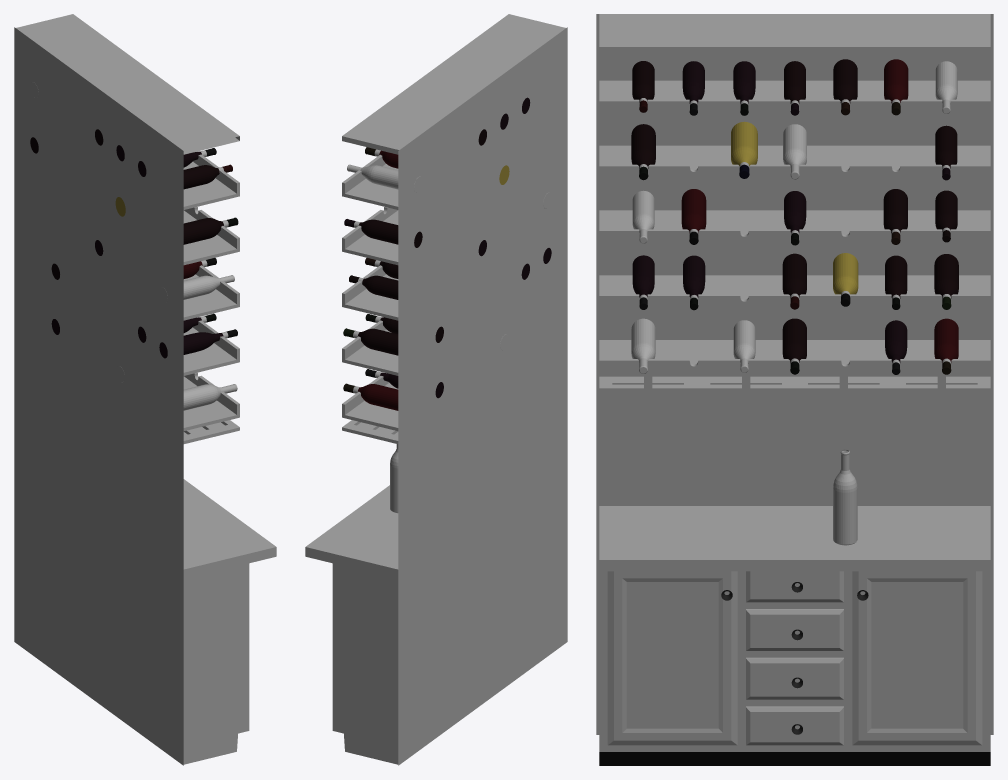
The model's file is bar shelf.FBX.
The picture shows the model from 3 angles, left to right: view 1: azimuth 30°, elevation 25°; view 2: azimuth 150°, elevation 25°; view 3: azimuth 270°, elevation 25°; orthographic projection. The views are drawn at different scales.
Visible parts, largest first — view 1: backer board, cabinet, top, wine shelf, countertop, wine bottle..133, wine bottle..166, wine bottle..153, glass shelf, wine bottle..072, wine bottle..070; view 2: backer board, cabinet, top, wine shelf, countertop, wine bottle..027, wine bottle..071, wine bottle..056, wine bottle..154, glass shelf, wine bottle..083, wine bottle; view 3: backer board, wine shelf, countertop, door left, door right, cabinet, top, drawer, glass shelf, wine bottle, wine bottle..109, wine bottle..110 (+25 smaller).
Boxes of the visible parts, box(x1,y1,x2,y2) form: backer board: box(14, 27, 183, 765); cabinet: box(145, 555, 249, 764); top: box(16, 14, 239, 154); wine shelf: box(133, 151, 239, 430); countertop: box(140, 479, 276, 579); wine bottle..133: box(183, 217, 238, 244); wine bottle..166: box(183, 384, 237, 410); wine bottle..153: box(159, 275, 234, 303); glass shelf: box(141, 413, 239, 444); wine bottle..072: box(159, 329, 237, 358); wine bottle..070: box(183, 164, 232, 189); backer board: box(398, 27, 567, 765); cabinet: box(332, 458, 566, 764); top: box(342, 14, 566, 154); wine shelf: box(342, 85, 566, 430); countertop: box(305, 448, 566, 578); wine bottle..027: box(344, 219, 422, 247); wine bottle..071: box(343, 328, 398, 355); wine bottle..056: box(343, 383, 398, 410); wine bottle..154: box(347, 164, 422, 192); glass shelf: box(342, 319, 566, 443); wine bottle..083: box(349, 275, 398, 299); wine bottle: box(390, 444, 398, 513); backer board: box(596, 14, 993, 734); wine shelf: box(599, 80, 990, 376); countertop: box(599, 506, 990, 571); door left: box(607, 571, 737, 745); door right: box(852, 571, 982, 745); cabinet: box(599, 571, 990, 765); top: box(599, 14, 990, 52); drawer: box(746, 571, 843, 745); glass shelf: box(599, 376, 990, 391); wine bottle: box(833, 449, 857, 545); wine bottle..109: box(731, 121, 757, 178); wine bottle..110: box(833, 253, 858, 306).
Bounding box in the file's own units: 5.96 × 37.2 × 18.59.
